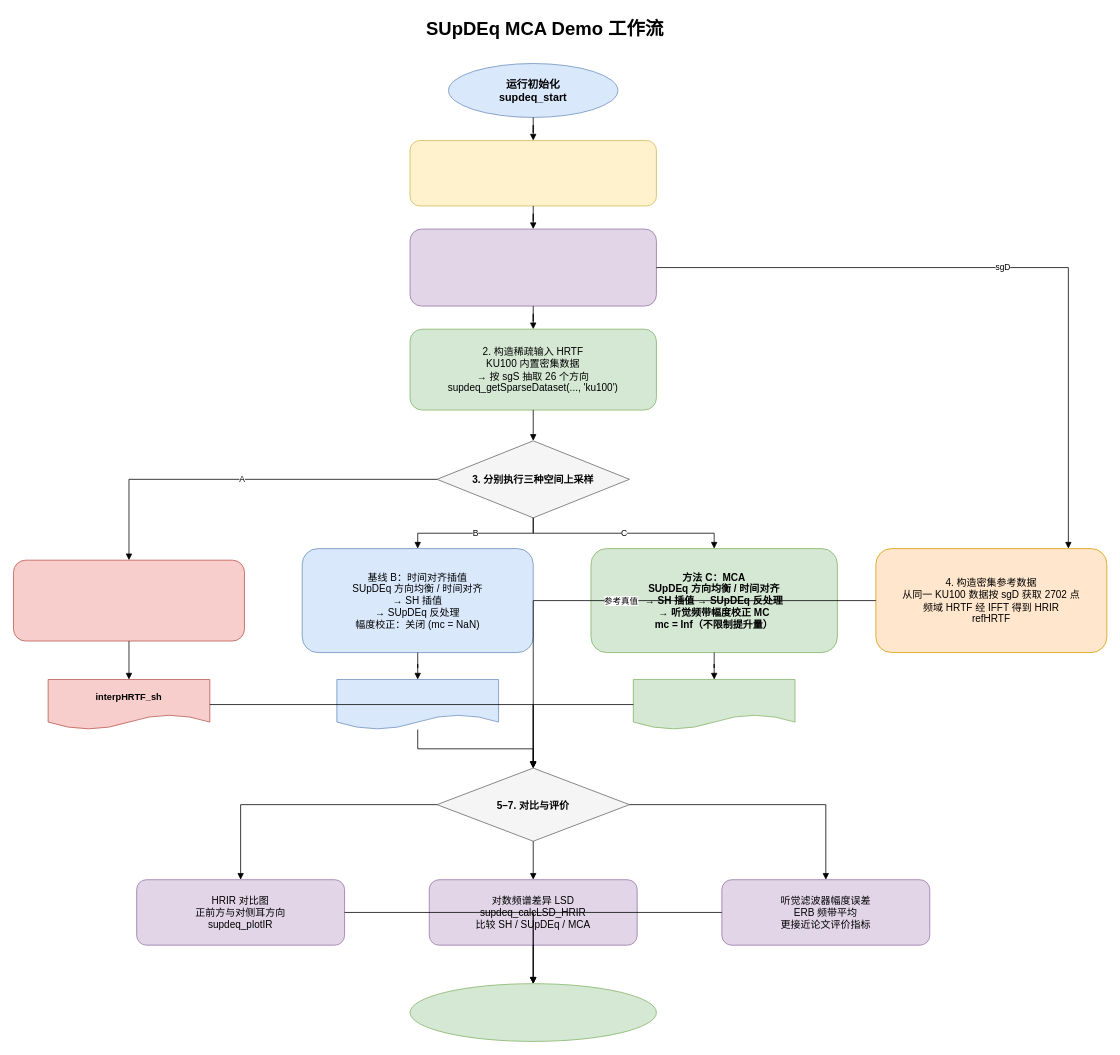
Some shapes in this 1120 by 1055 pixel diagram are drawn without their labels. Each missing label, with the centre of its shape:
1. 定义球面采样网格 稀疏：Ns = 3 → 26 点 密集：Nd = 44 → 2702 点 supdeq_lebedev: [532,267]
interpHRTF_con: [417,704]
interpHRTF_mca: [714,704]
加载路径与依赖 SUpDEq / SOFiA / AKtools / SOFA MCA 还需要 Auditory Toolbox: [532,173]
基线 A：普通 SH 预处理：None 插值：SH 幅度校正：关闭 (mc = NaN): [128,600]
输出：三组稠密 HRTF/HRIR 及其相对参考数据的误差结果: [532,1012]
